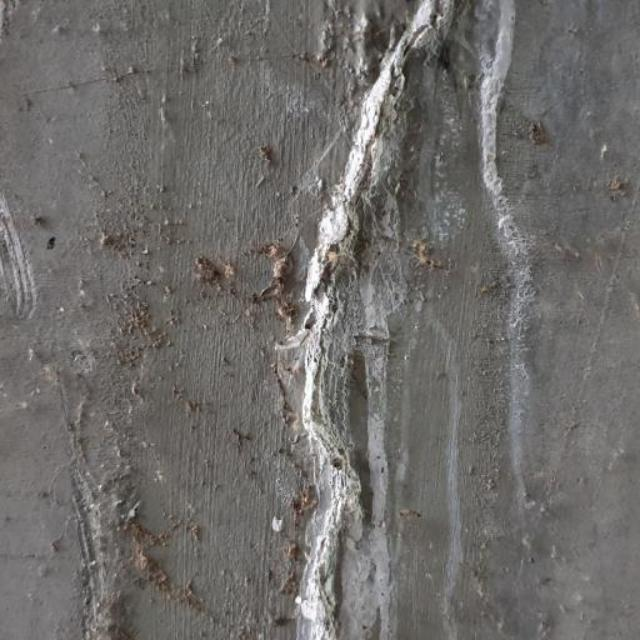D01: (282, 2, 453, 639)
